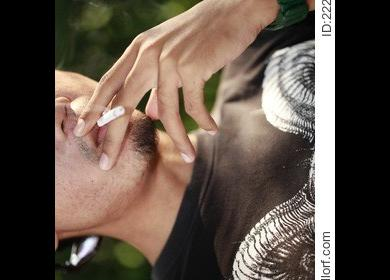Cigarette: (94, 105, 125, 126)
